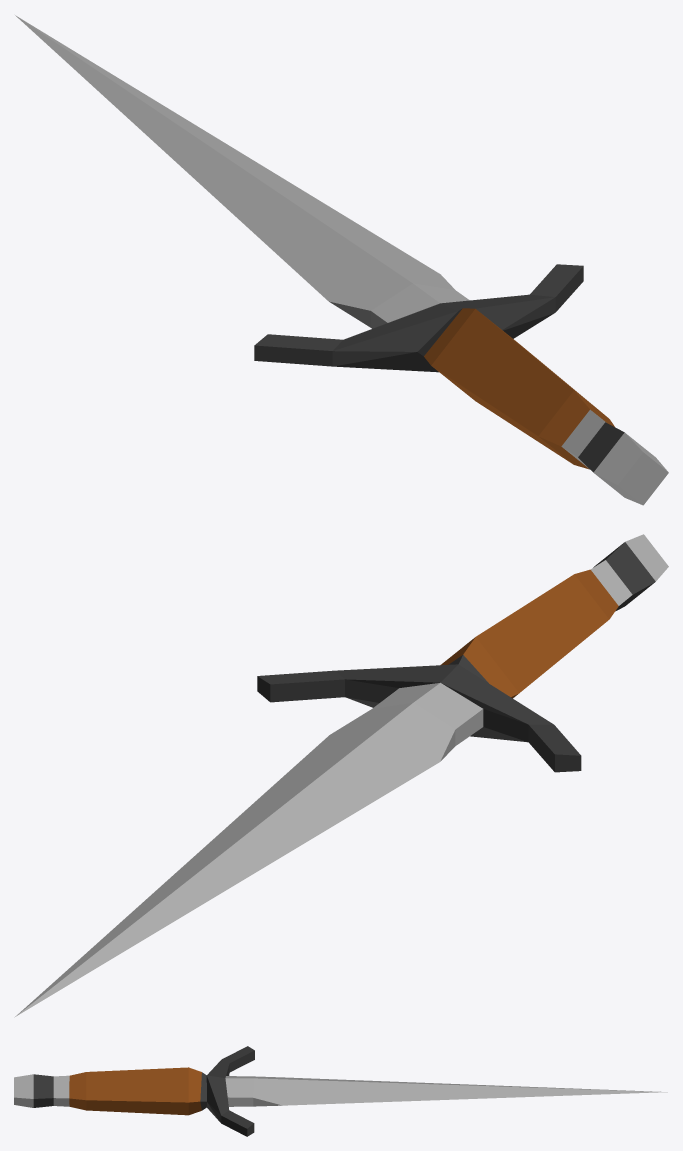
Rendered from dagger.glb.
The picture shows the model from 3 angles, top to bottom: view 1: azimuth 30°, elevation 25°; view 2: azimuth 150°, elevation 25°; view 3: azimuth 270°, elevation 25°; orthographic projection. The views are drawn at different scales.
Parts seen in each view (by area): view 1: Dagger; view 2: Dagger; view 3: Dagger.
Boxes of the visible parts, x1=… form: Dagger: x1=15, y1=15, x2=668, y2=505; Dagger: x1=14, y1=534, x2=668, y2=1017; Dagger: x1=14, y1=1046, x2=667, y2=1136.
Bounding box in the file's own units: 0.1982 × 0.0534 × 0.6614.
Materials: 1 (1 with a texture image).
